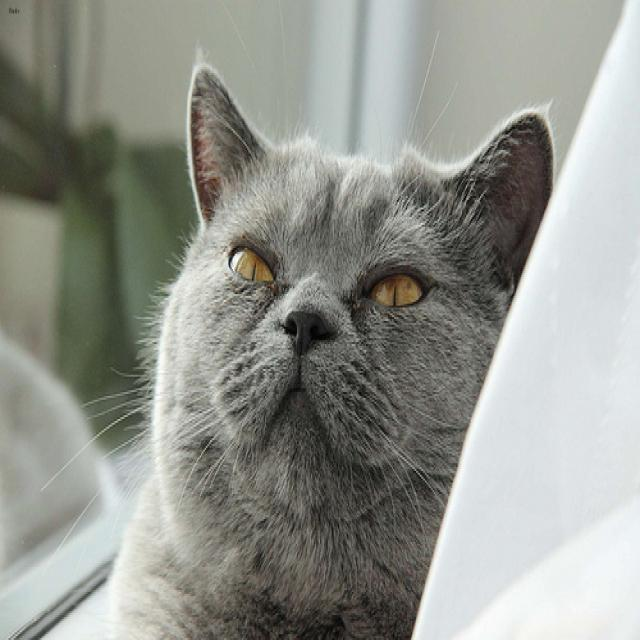British_Shorthair: (156, 59, 551, 585)
